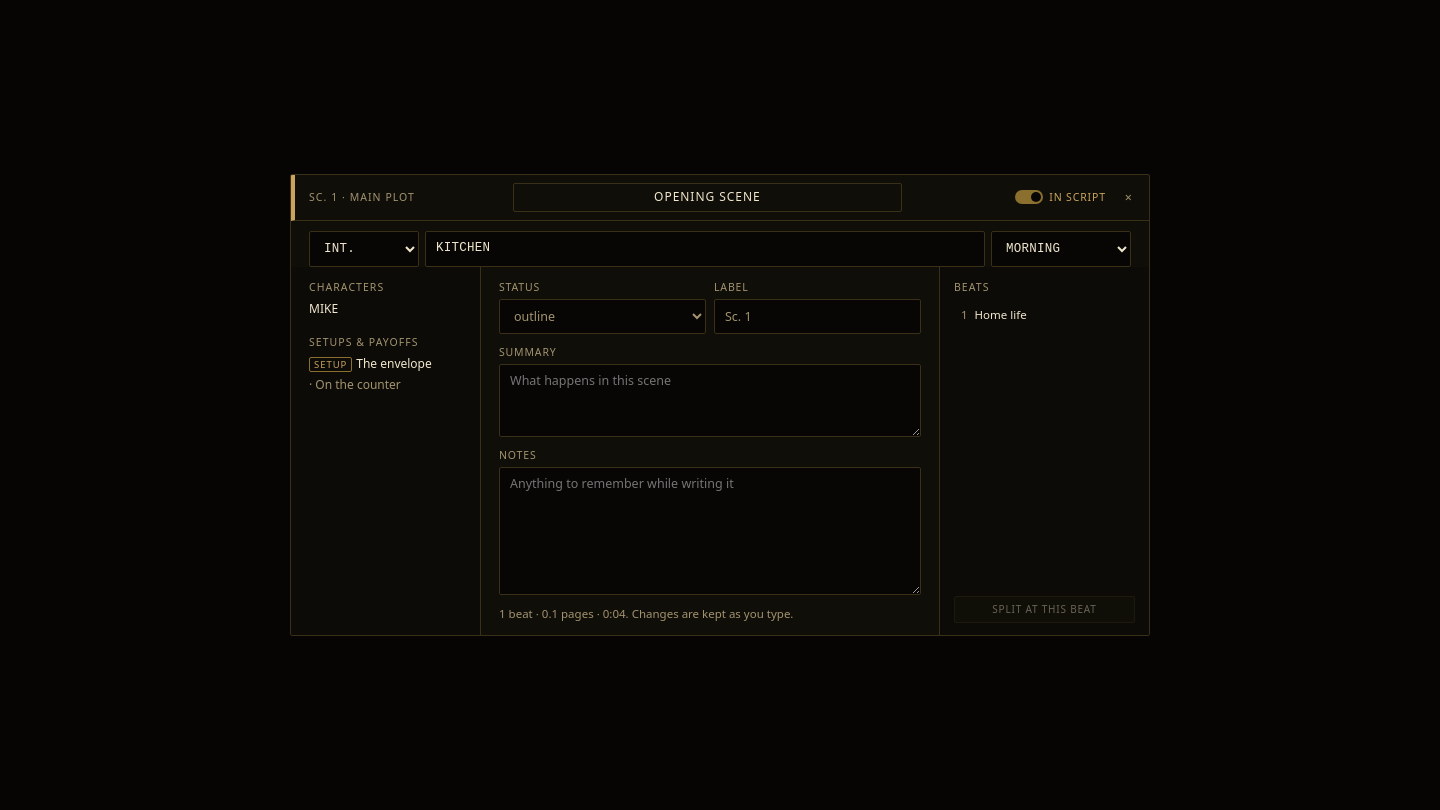
Test: scene pop-up › names the scene top centre, reads the slugline, lists the cast and the promises, and switches the scene off
This screenshot has width=1440, height=810.
Check: the field named "Scene name" holds "Opening Scene", box x1=513 y1=183 x2=902 y2=212
Check: the field named "LOCATION" holds "KITCHEN", box x1=425 y1=231 x2=985 y2=266
Note: The heading fields write back to the script's first scene heading.
Select "EXT." in the dropdown named "Setting" at x=364, y=249, box x1=309 y1=231 x2=419 y2=266
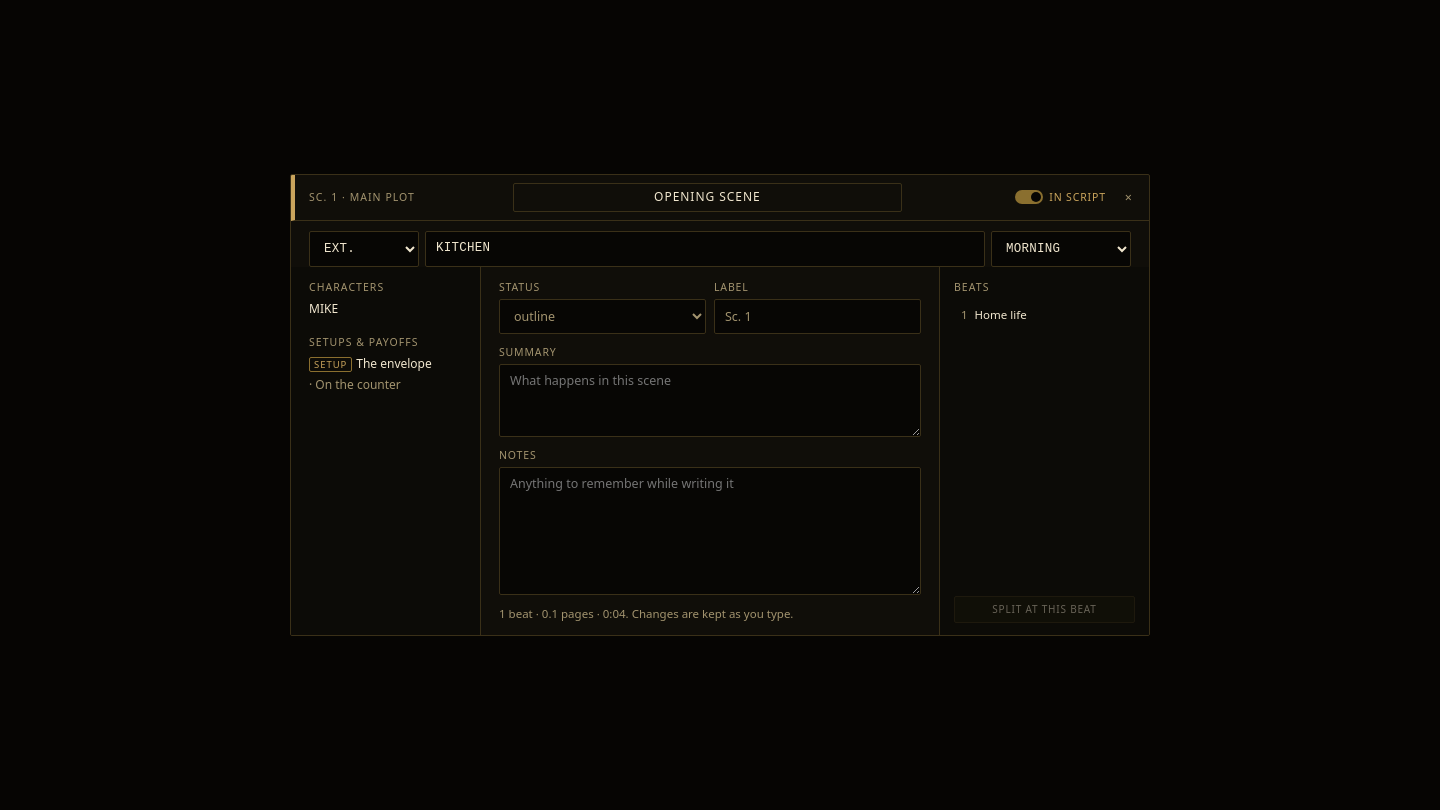
Replace the text in the field named "LOCATION" with "Back porch" at x=705, y=249, box x1=425 y1=231 x2=985 y2=266
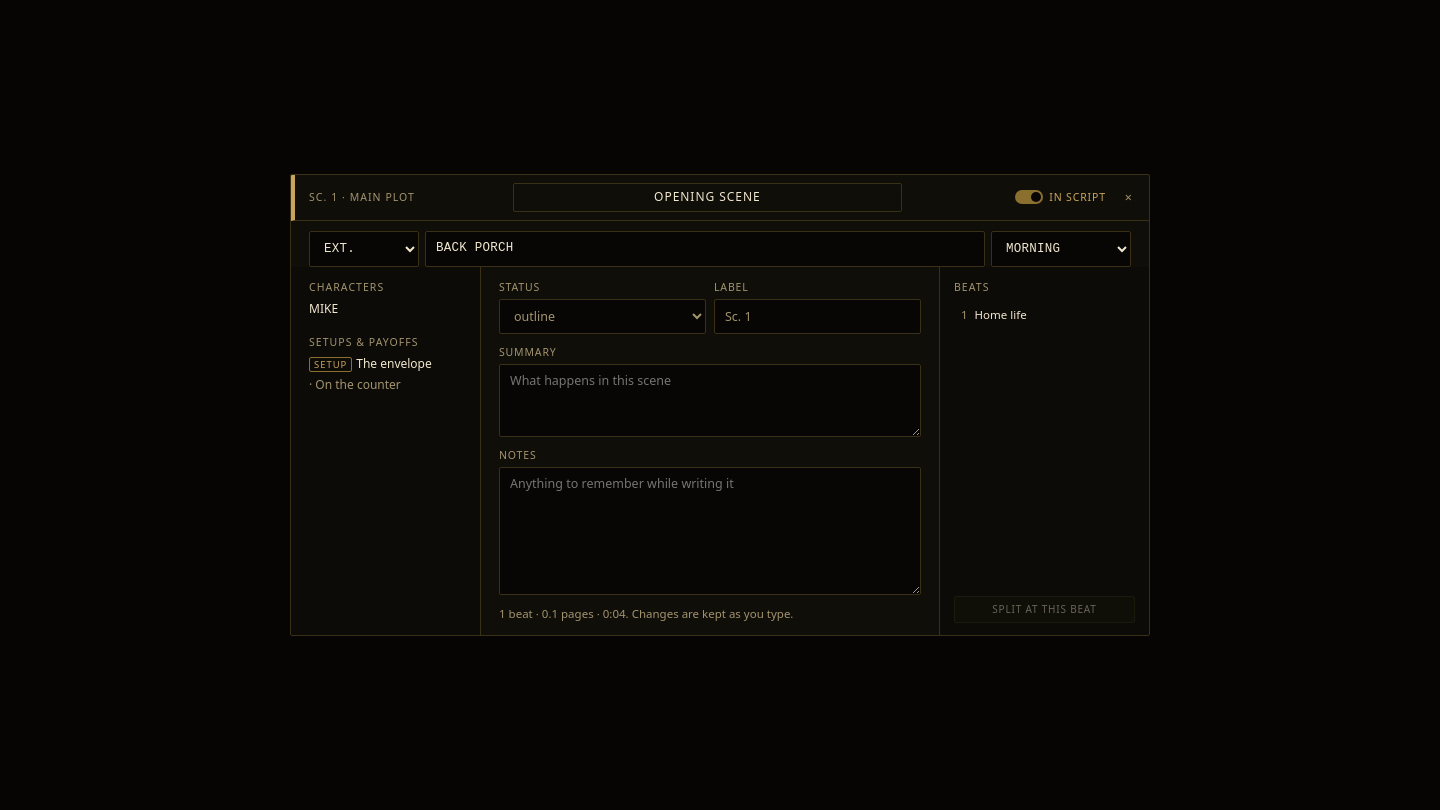
Select "NIGHT" in the dropdown named "Time" at x=1061, y=249, box x1=991 y1=231 x2=1131 y2=266
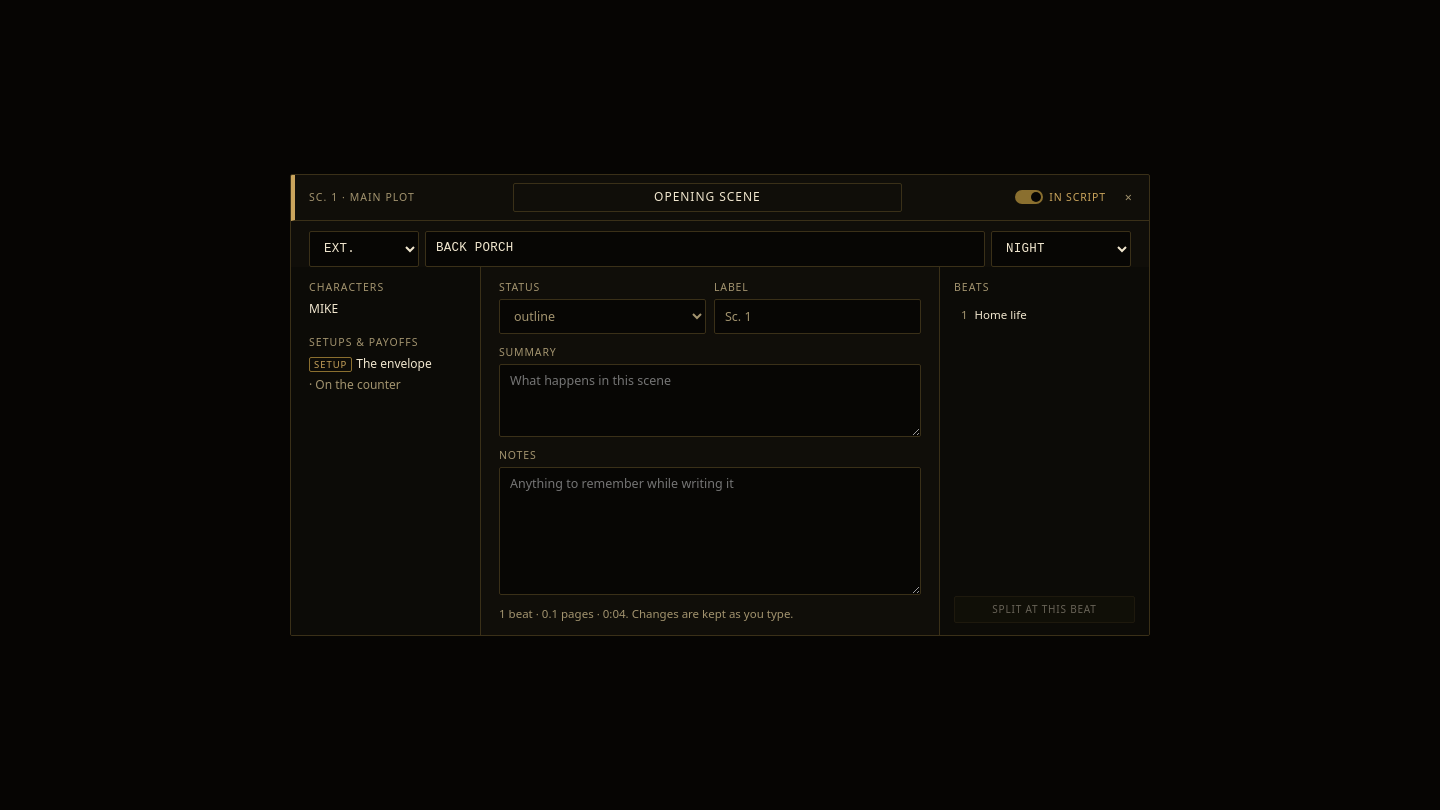
Note: Off: the scene leaves the manuscript and stays in the structure.
Click the switch labelled "In script".
click(1061, 197)  # box x1=1015 y1=189 x2=1106 y2=206
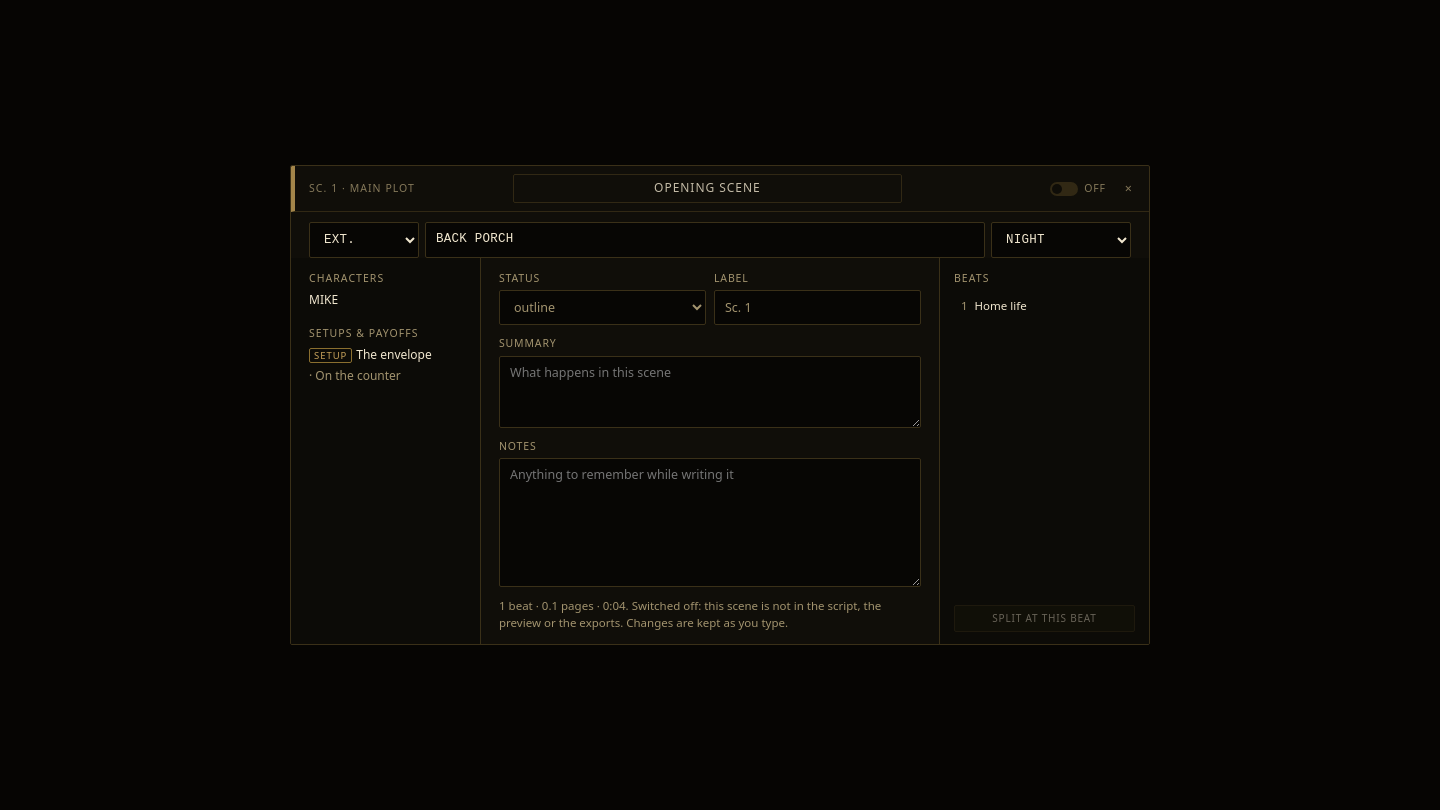
Check: the text "Off" is shown, box x1=1084 y1=180 x2=1106 y2=197
